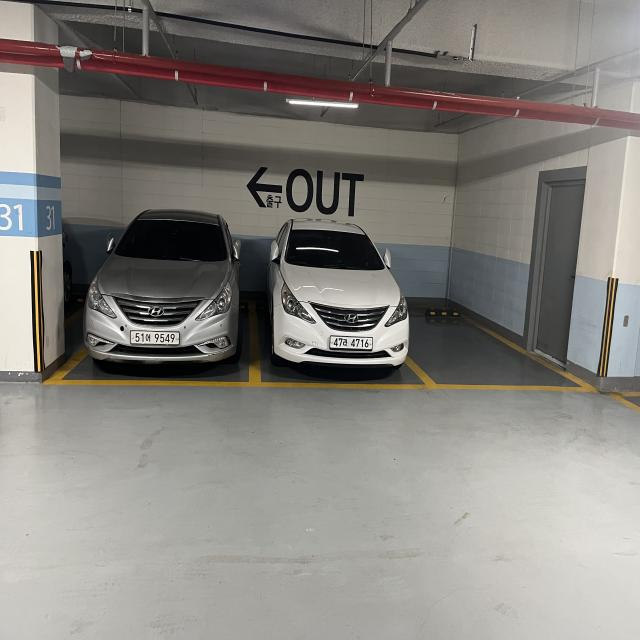empty: (396, 300, 591, 388)
occupied: (100, 210, 241, 377), (266, 220, 410, 375)
